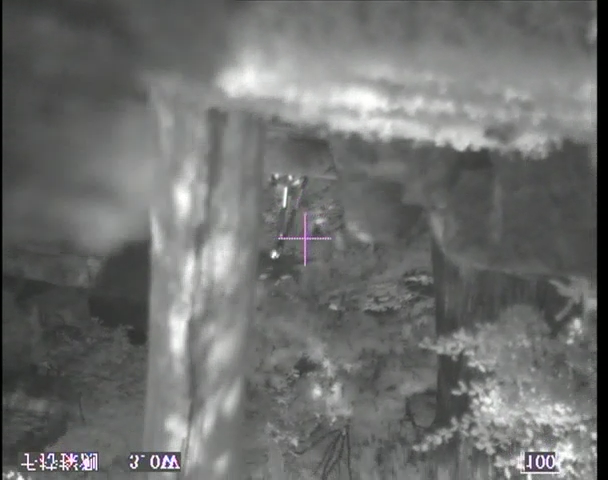my: (269, 250, 278, 260)
